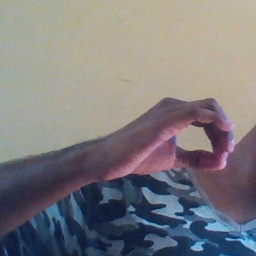O: (113, 92, 239, 178)
